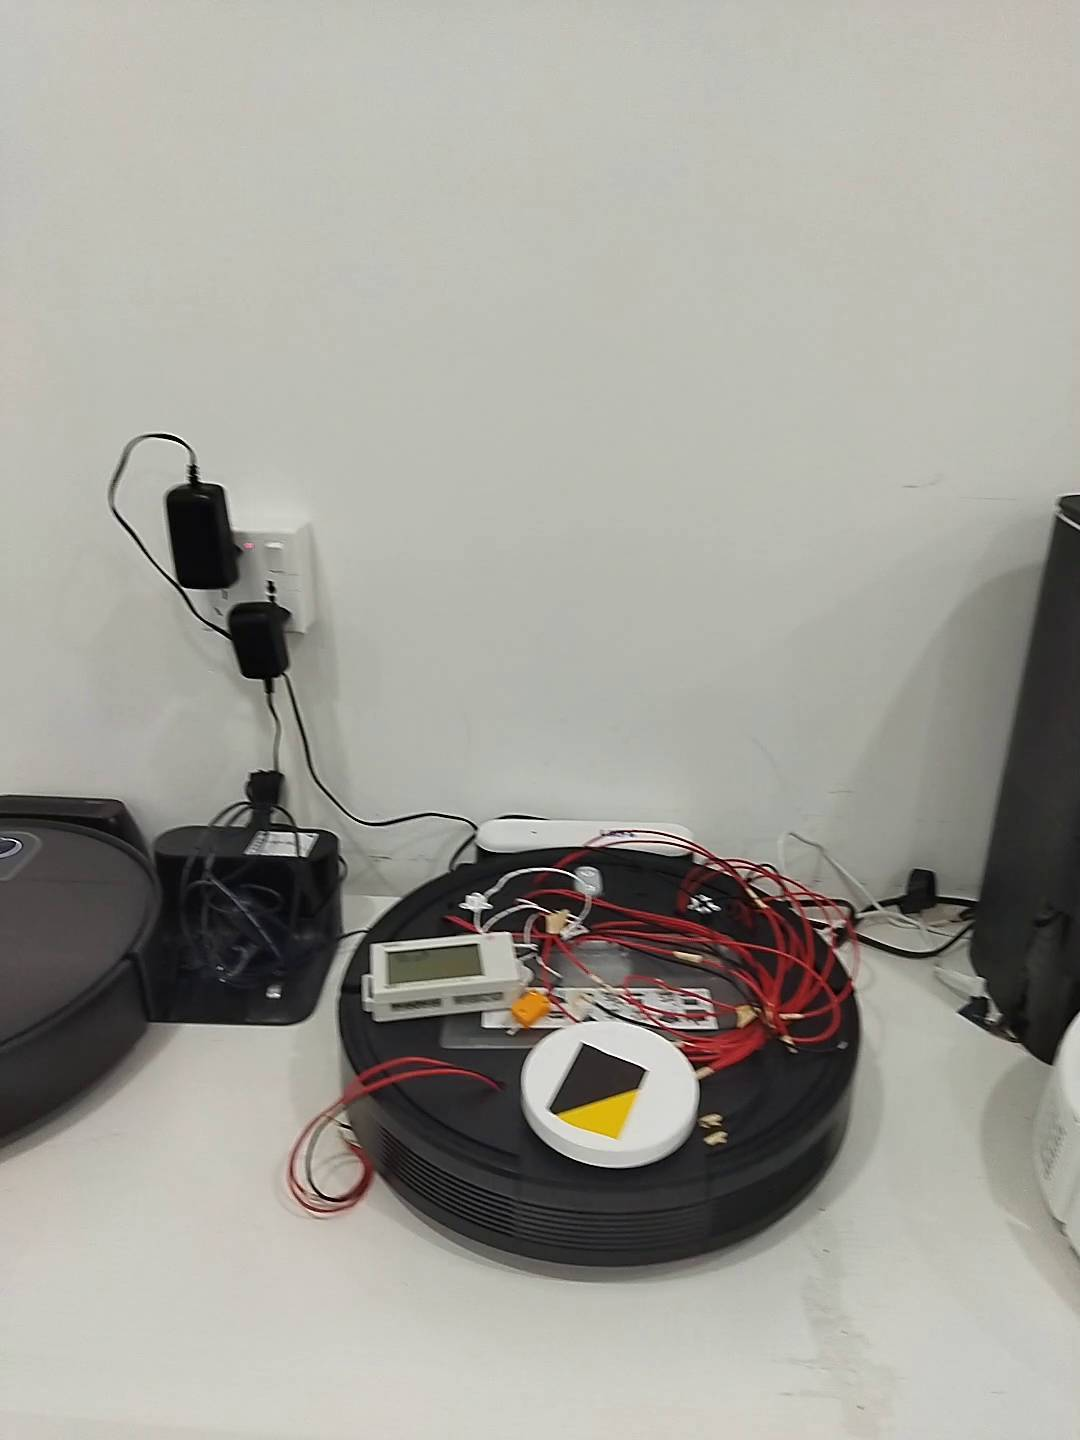recharge seat: (146, 825, 347, 1022)
